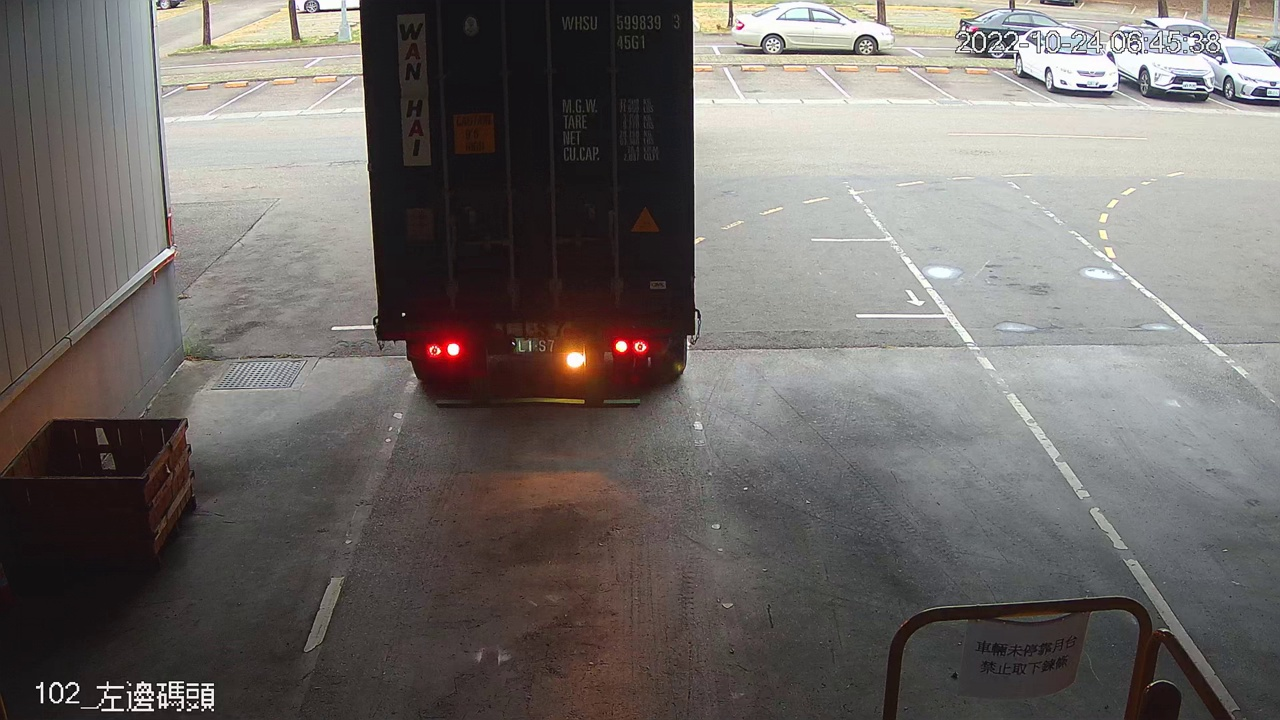container: (555, 7, 687, 56)
